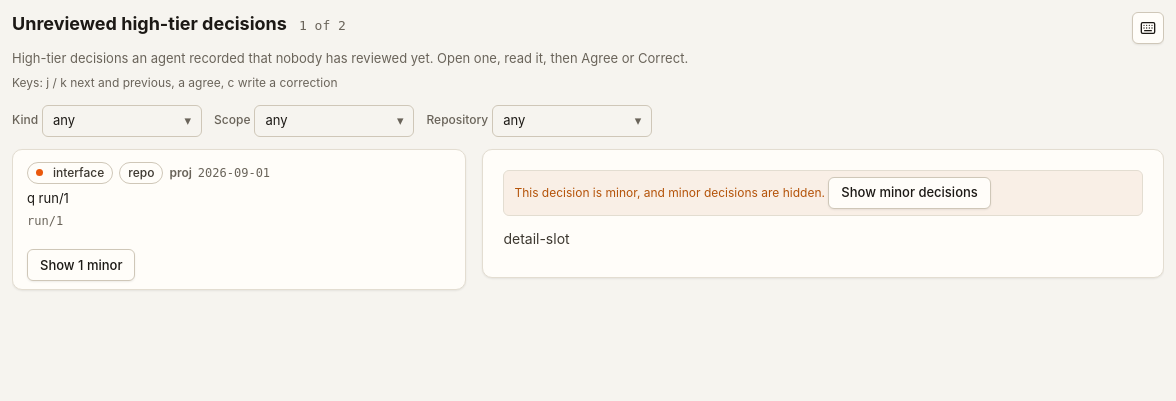
Test case: the note beside an open minor decision whose row is collapsed › says the decision is minor, not filtered, and its button shows the minor rows
Expected: the text "This decision is minor, and minor decisions are hidden." is shown, [514,185,825,200]
What coordinates should you click on to do the following:
click the button "Show minor decisions"
I would click on:
 (910, 193)
Its box is [828,177,991,209].
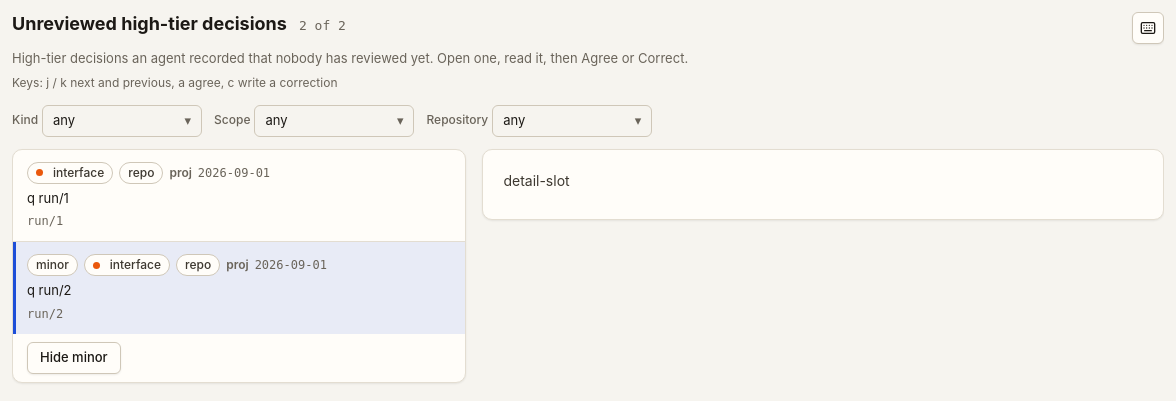
Now the text "run/2" is shown, box [27,307,63,321]
